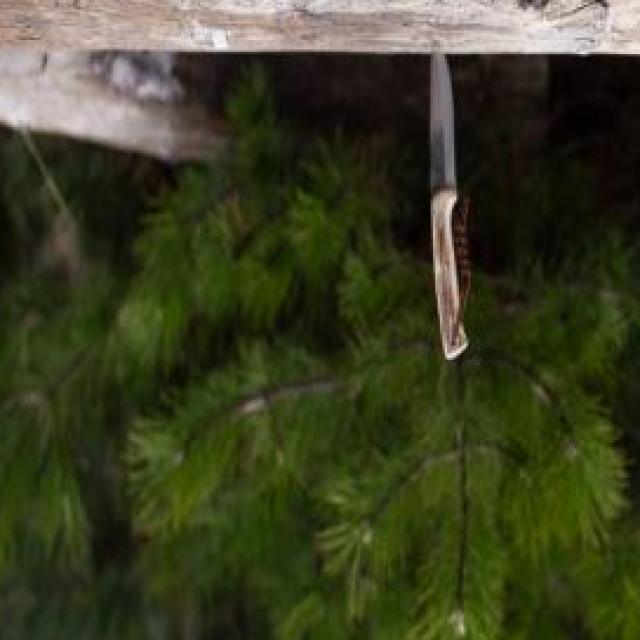knife: (426, 50, 468, 362)
